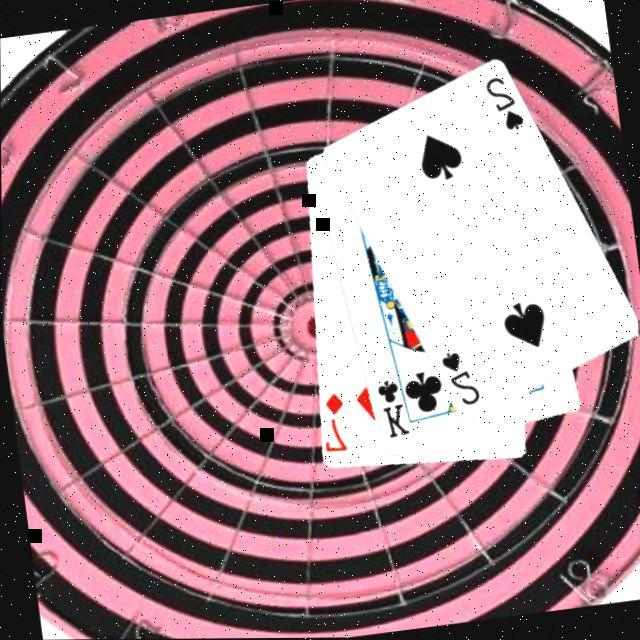2S: (478, 73, 526, 138), (434, 347, 481, 413)
7D: (314, 390, 350, 457)
KC: (370, 368, 414, 442)
